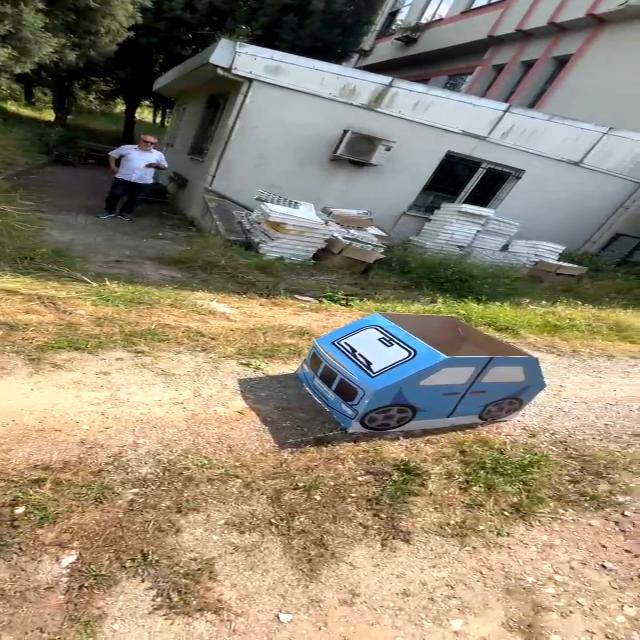blue_car: (269, 301, 564, 448)
